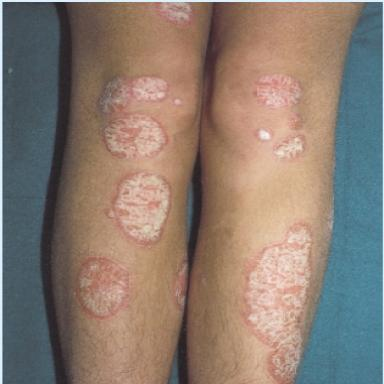Psoriasis: (243, 222, 312, 384), (98, 77, 169, 159), (107, 170, 171, 245), (75, 257, 129, 319), (254, 74, 300, 108), (273, 134, 307, 162), (155, 3, 195, 25), (173, 259, 188, 311), (255, 128, 272, 141), (173, 98, 181, 106)
